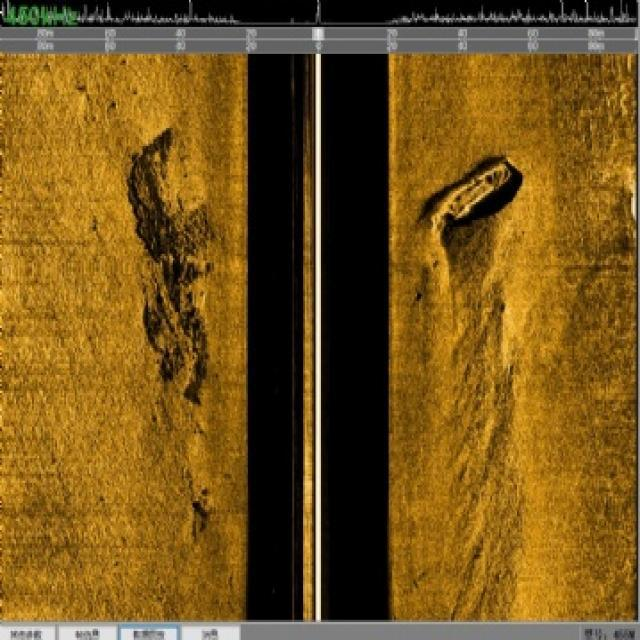shipwreck: (435, 150, 510, 234)
